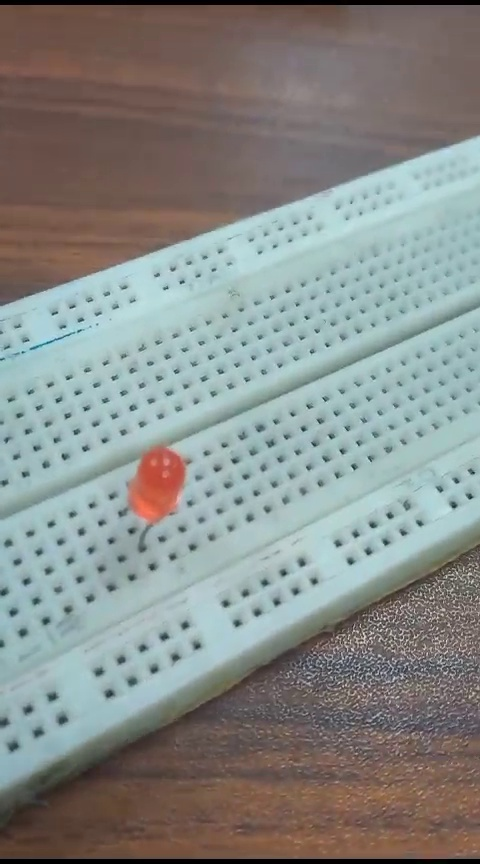LED: (116, 445, 190, 540)
